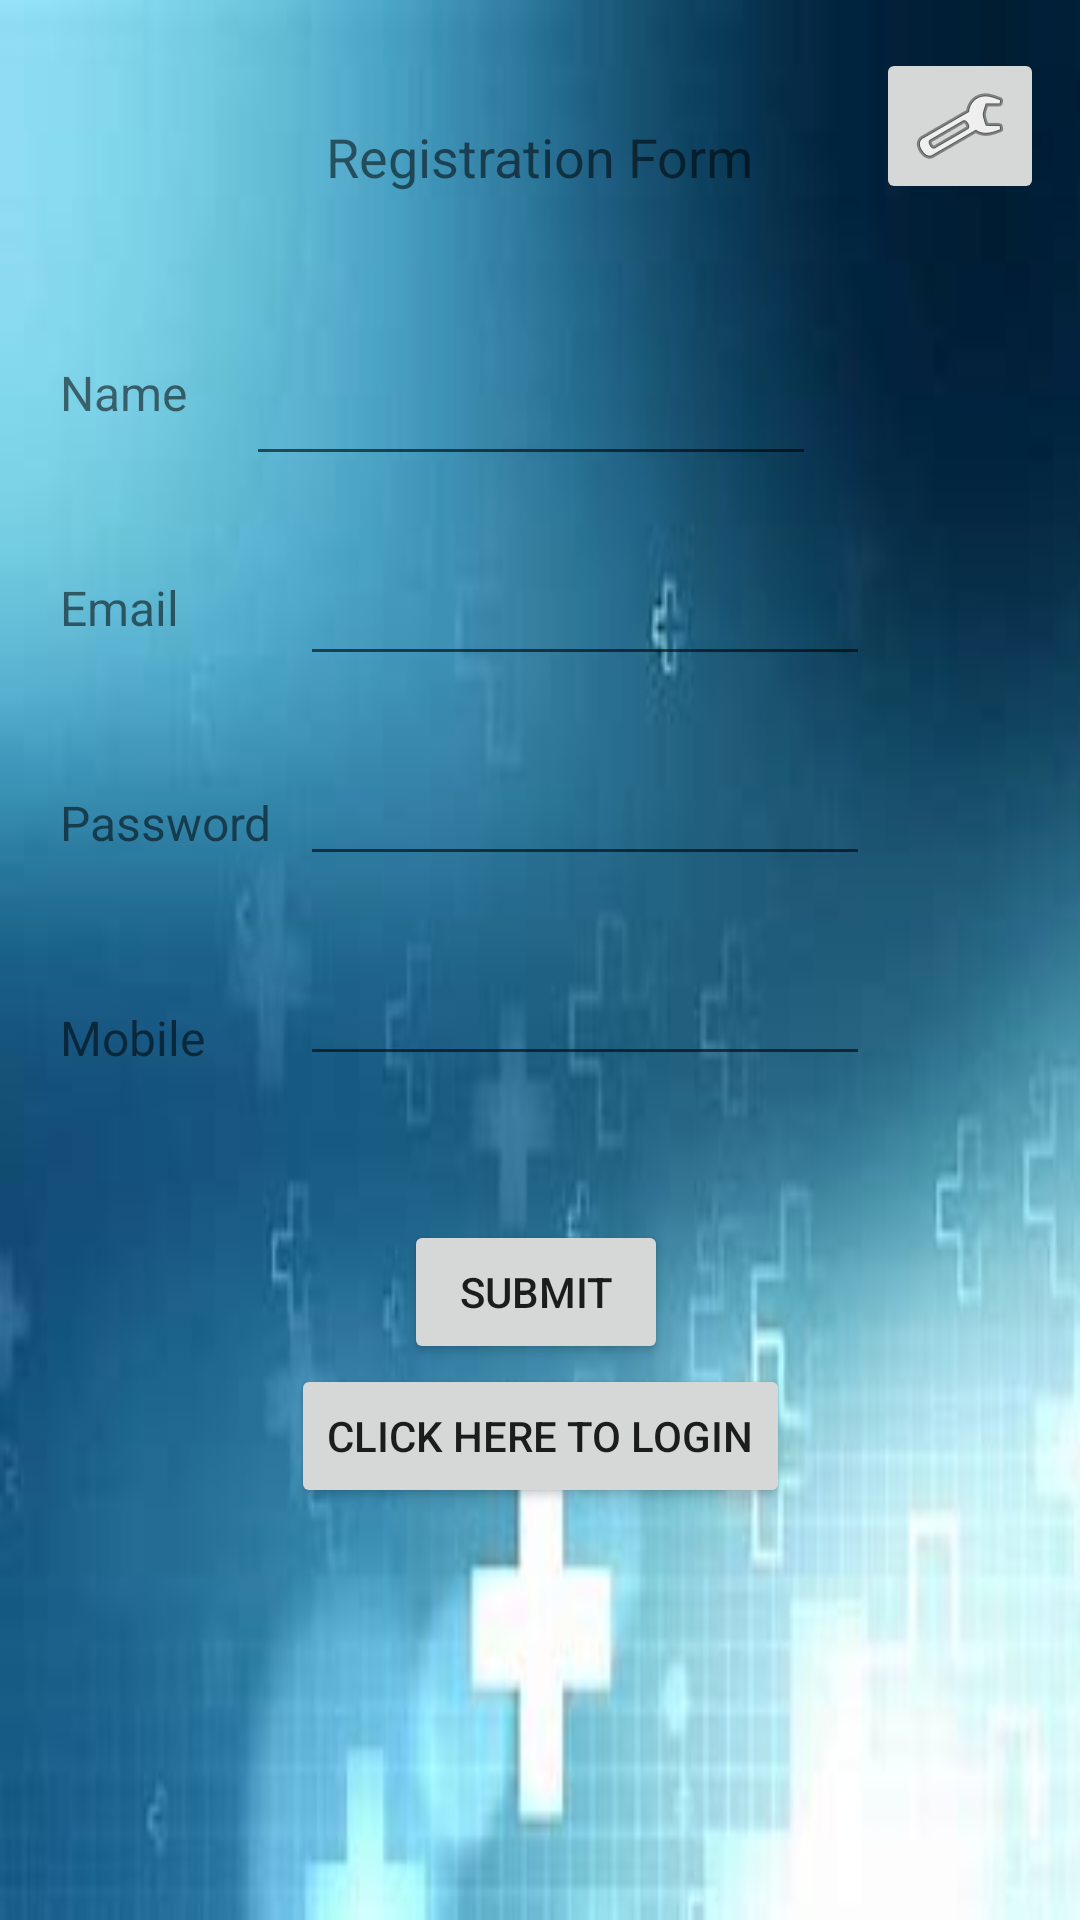

Screen size 1080w x 1920h. Icon name, then its box in pixels as [x1,y1,x2,y2]:
manage: [888,66,1032,186]
